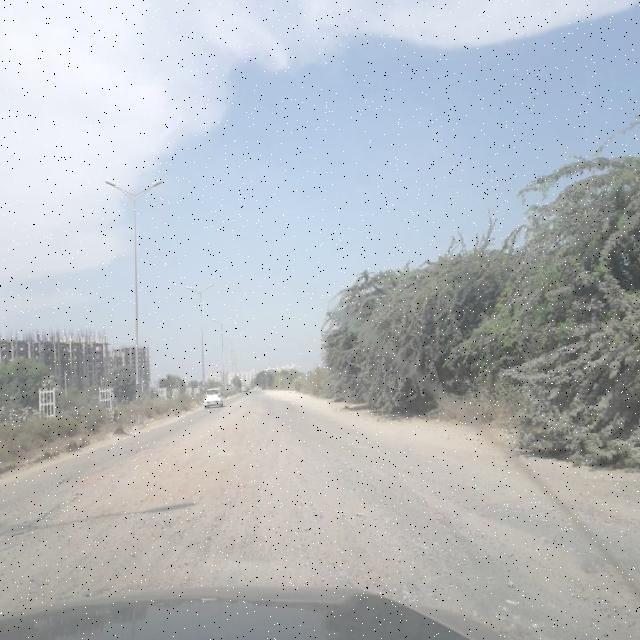D40: (23, 432, 388, 580), (408, 497, 632, 606)
